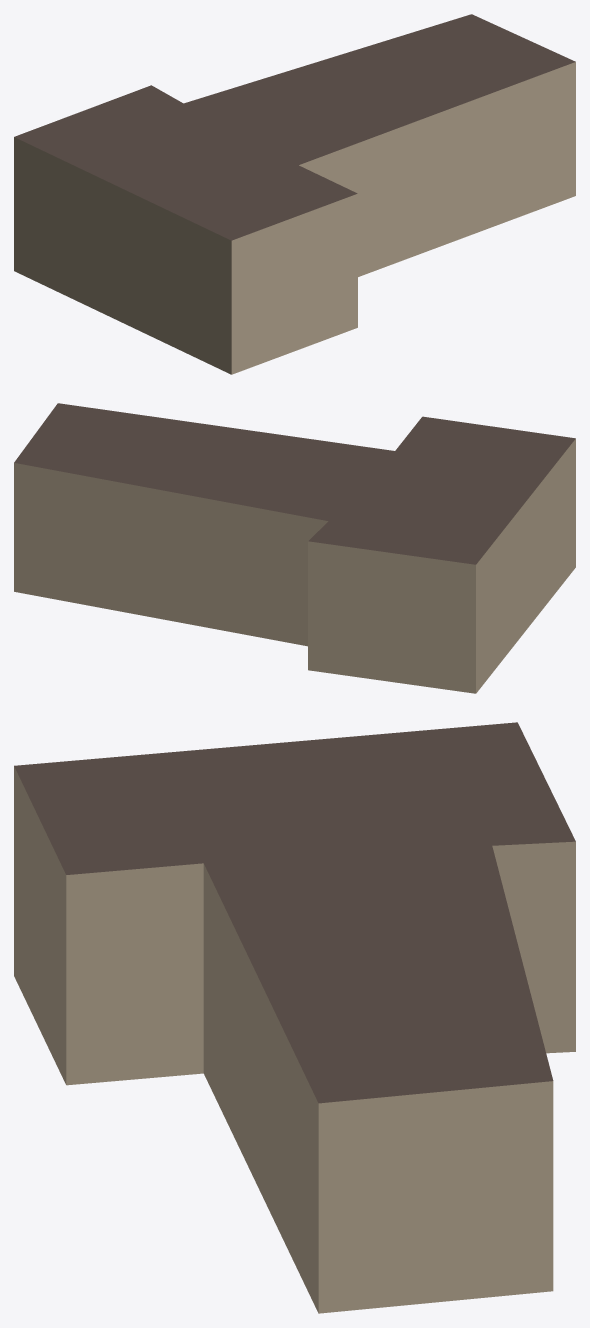
3 renders of one model, top to bottom at view 1: azimuth 30°, elevation 25°; view 2: azimuth 150°, elevation 25°; view 3: azimuth 270°, elevation 25°, orthographic. The views are drawn at different scales.
Parts seen in each view (by area): view 1: HP-w389702092; view 2: HP-w389702092; view 3: HP-w389702092.
Part boxes in pixels (box(x1,y1,x2,y2)): HP-w389702092: box(14, 14, 575, 374); HP-w389702092: box(14, 403, 575, 693); HP-w389702092: box(14, 722, 575, 1313).
Bounding box in the file's own units: 35 × 9 × 21.81.
